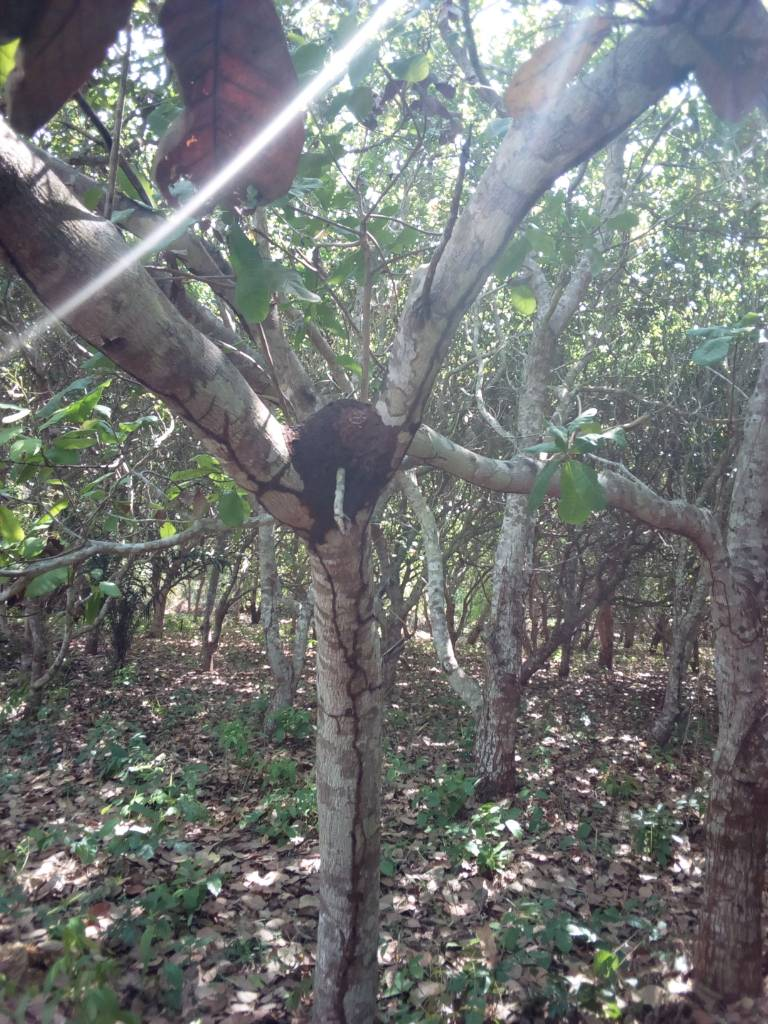Termites: (329, 567, 377, 1019), (168, 397, 290, 502), (288, 400, 394, 516)
